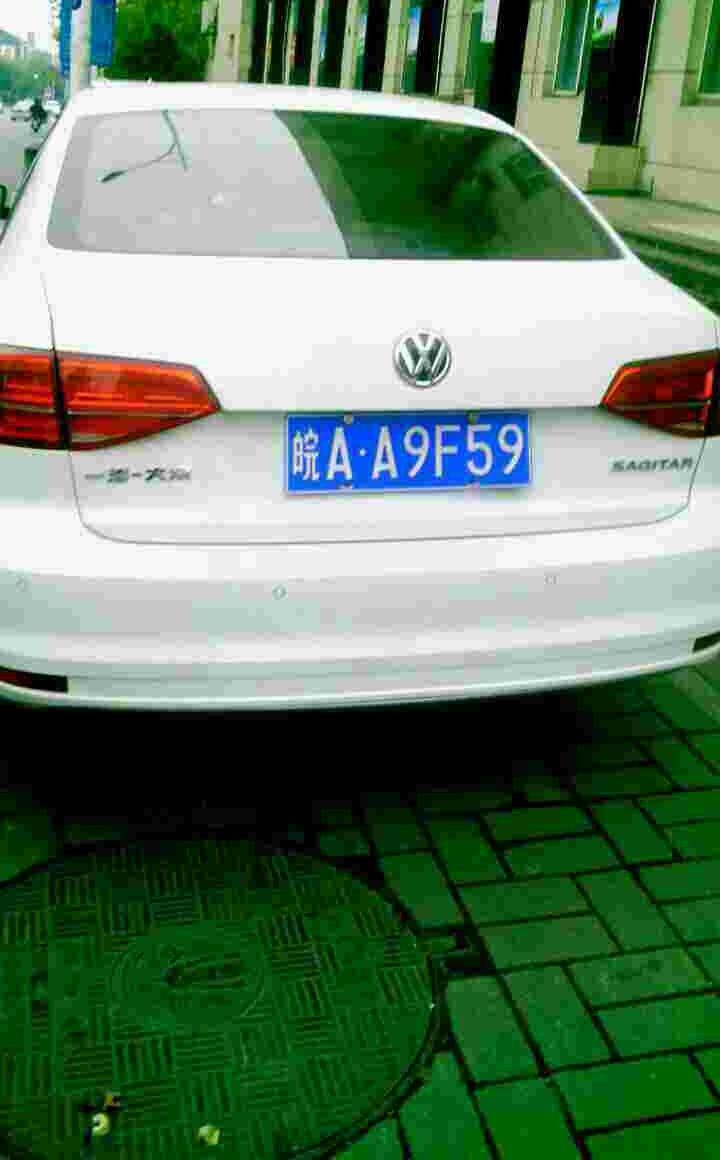license_plate: (287, 411, 518, 498)
